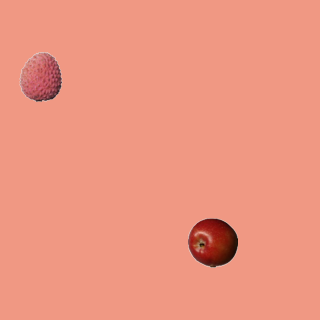Apple Braeburn: (187, 217, 237, 267)
Lychee: (15, 51, 65, 101)
